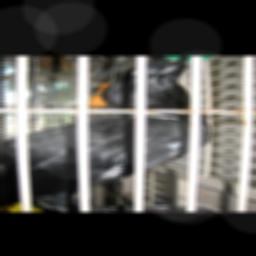Crow: (0, 58, 211, 212)
